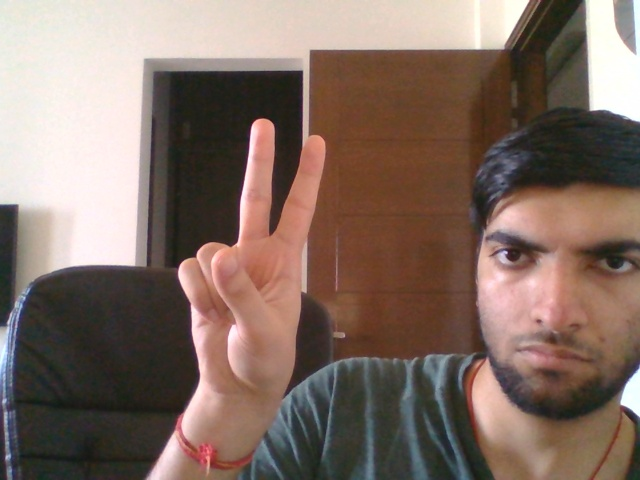LetterV: (174, 113, 327, 400)
